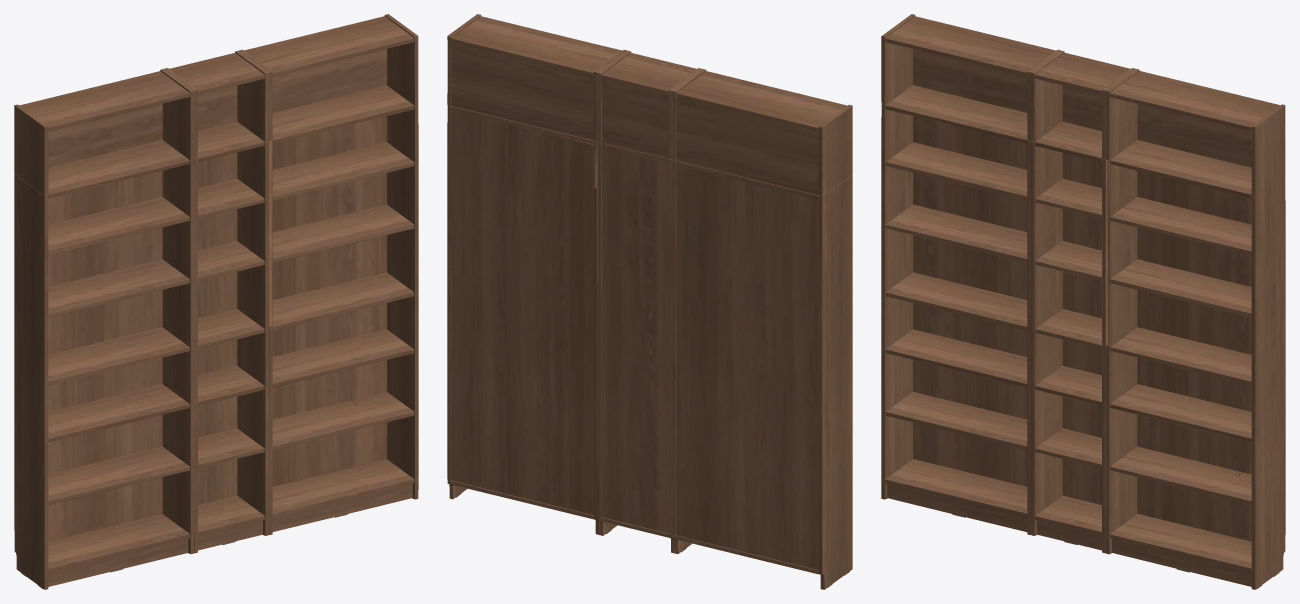
3 renders of one model, left to right at view 1: azimuth 30°, elevation 25°; view 2: azimuth 150°, elevation 25°; view 3: azimuth 330°, elevation 25°, orthographic.
Parts seen in each view (by area): view 1: Mesh_0.001; view 2: Mesh_0.001; view 3: Mesh_0.001.
Part boxes in pixels (bbox=[...]): Mesh_0.001: bbox=[14, 14, 418, 589]; Mesh_0.001: bbox=[447, 14, 852, 589]; Mesh_0.001: bbox=[881, 14, 1285, 589].
Size of the model in its own units: 2 by 2.37 by 0.2801.
Materials: 1 (1 with a texture image).
